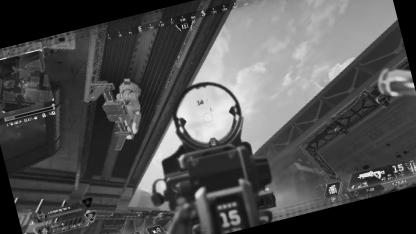Target: (208, 106, 214, 112)
